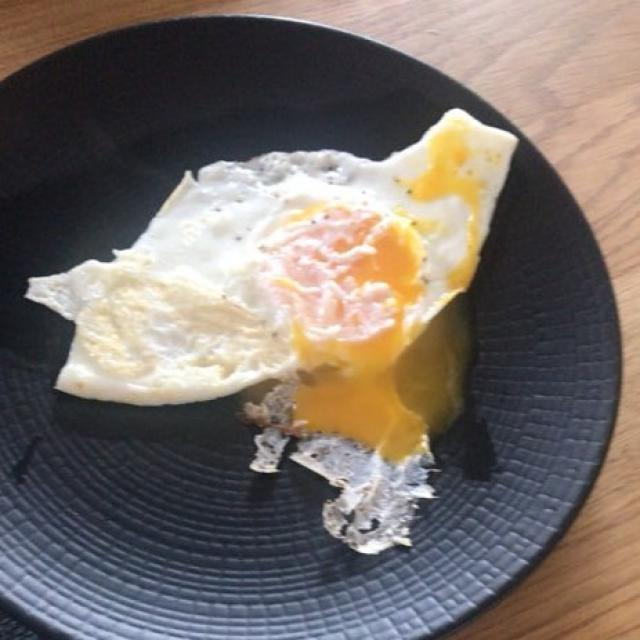egg: (53, 121, 509, 522)
